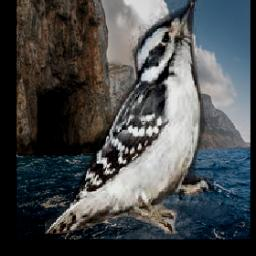Woodpecker: (46, 0, 215, 234)
